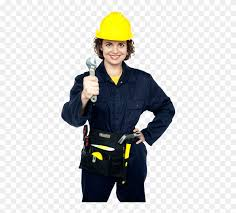Person_wearing_helmet: (91, 8, 136, 49)
